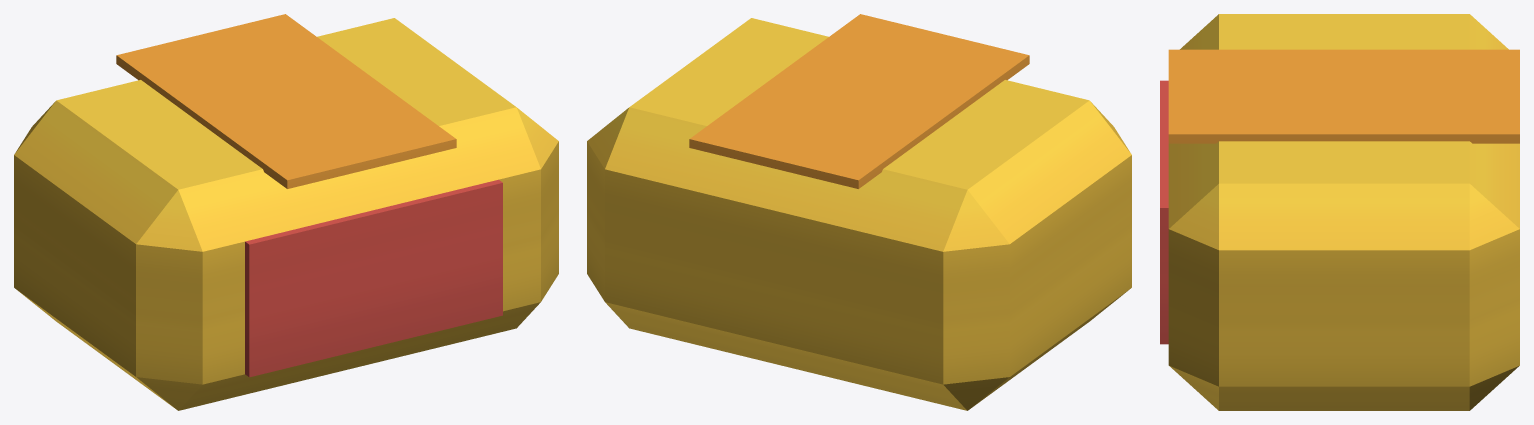
The model's file is Lanche.fbx.
The picture shows the model from 3 angles, left to right: view 1: azimuth 30°, elevation 25°; view 2: azimuth 150°, elevation 25°; view 3: azimuth 270°, elevation 25°; orthographic projection. The views are drawn at different scales.
Parts seen in each view (by area): view 1: Lanche_Malha; view 2: Lanche_Malha; view 3: Lanche_Malha.
Boxes of the visible parts, <box> form: Lanche_Malha: <box>14,14,558,410</box>; Lanche_Malha: <box>587,14,1131,410</box>; Lanche_Malha: <box>1160,14,1519,410</box>.
Bounding box in the file's own units: 0.2 × 0.103 × 0.1435.
